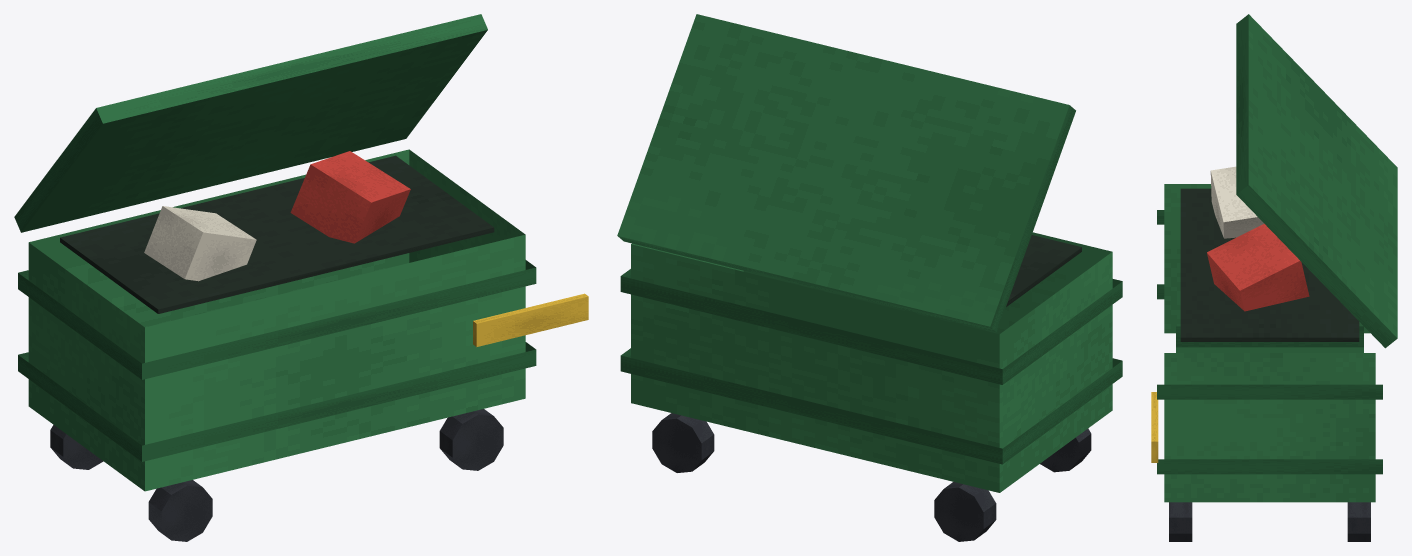
The model's file is prop_dumpster.glb.
The picture shows the model from 3 angles, left to right: view 1: azimuth 30°, elevation 25°; view 2: azimuth 150°, elevation 25°; view 3: azimuth 270°, elevation 25°; orthographic projection. The views are drawn at different scales.
Parts seen in each view (by area): view 1: prop_dumpster; view 2: prop_dumpster; view 3: prop_dumpster.
Boxes of the visible parts, <box> form: prop_dumpster: <box>14,14,588,541</box>; prop_dumpster: <box>617,14,1122,541</box>; prop_dumpster: <box>1151,14,1397,541</box>.
Bounding box in the file's own units: 1.98 × 1.76 × 1.05.
Materials: 1 (1 with a texture image).
